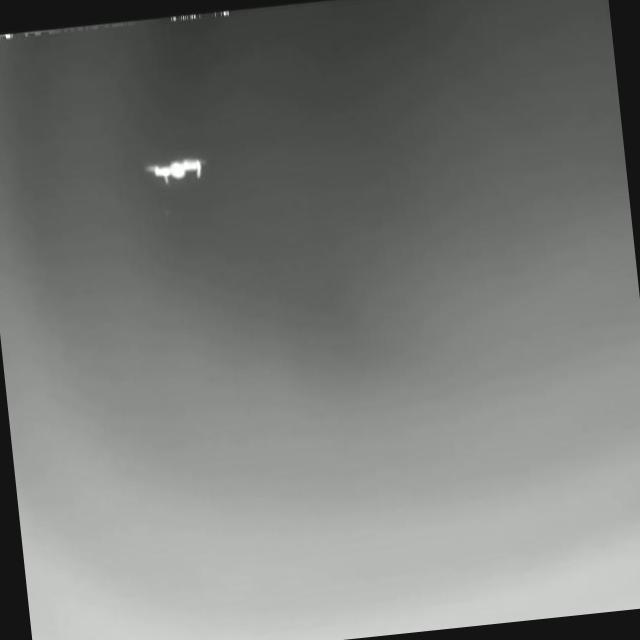DRONE: (143, 152, 206, 185)
